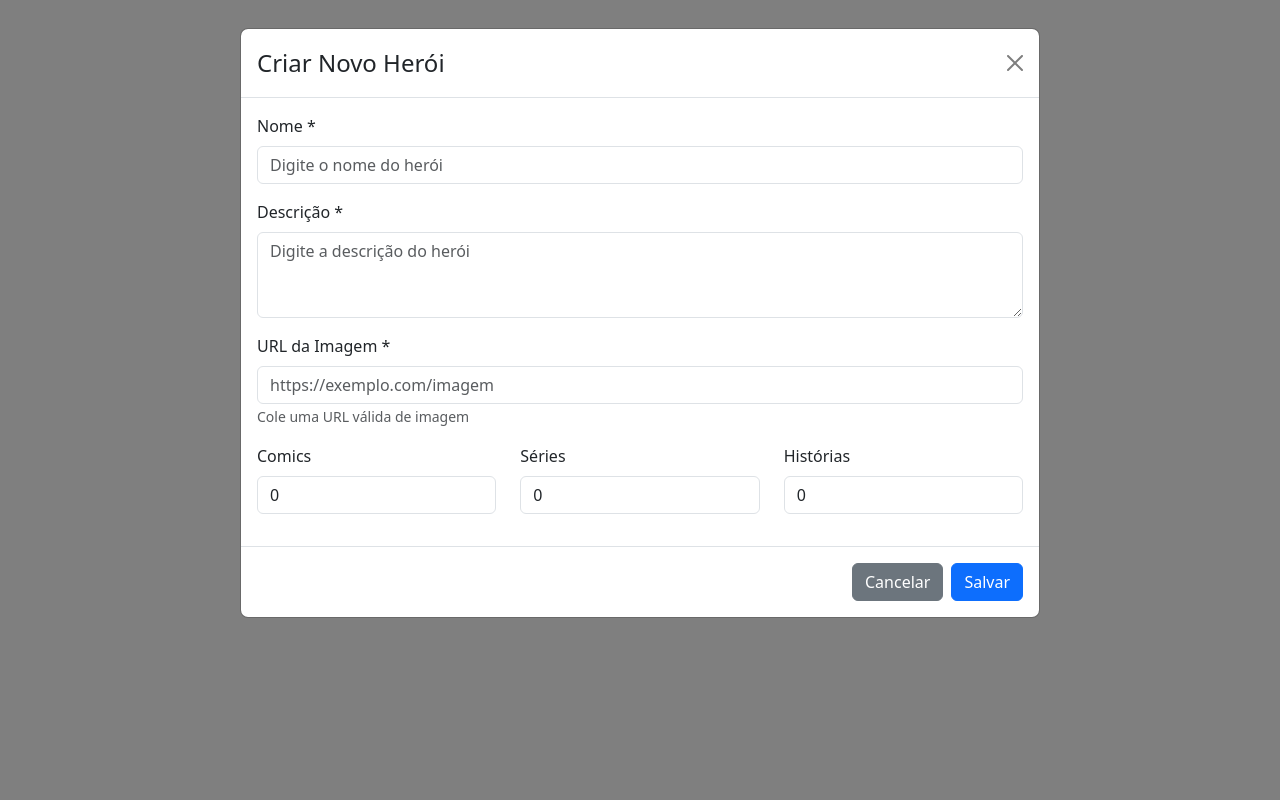
HeroForm › Form Interactions › should disable submit button while submitting
In the field with placeholder "Digite o nome do herói": [640, 165] box top-left (257, 146), bottom-right (1023, 184), type "Test"
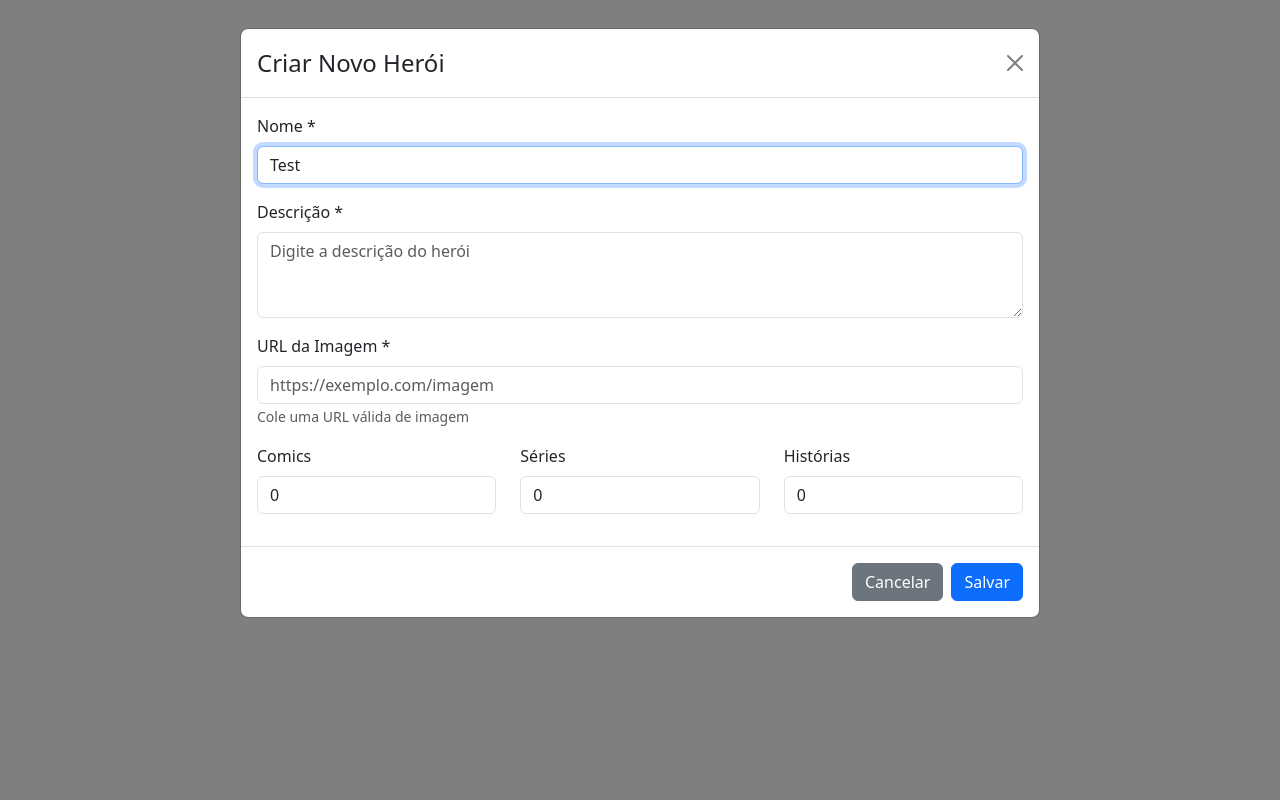
In the text box with placeholder "Digite a descrição do herói": [640, 275] box top-left (257, 232), bottom-right (1023, 318), type "Test"
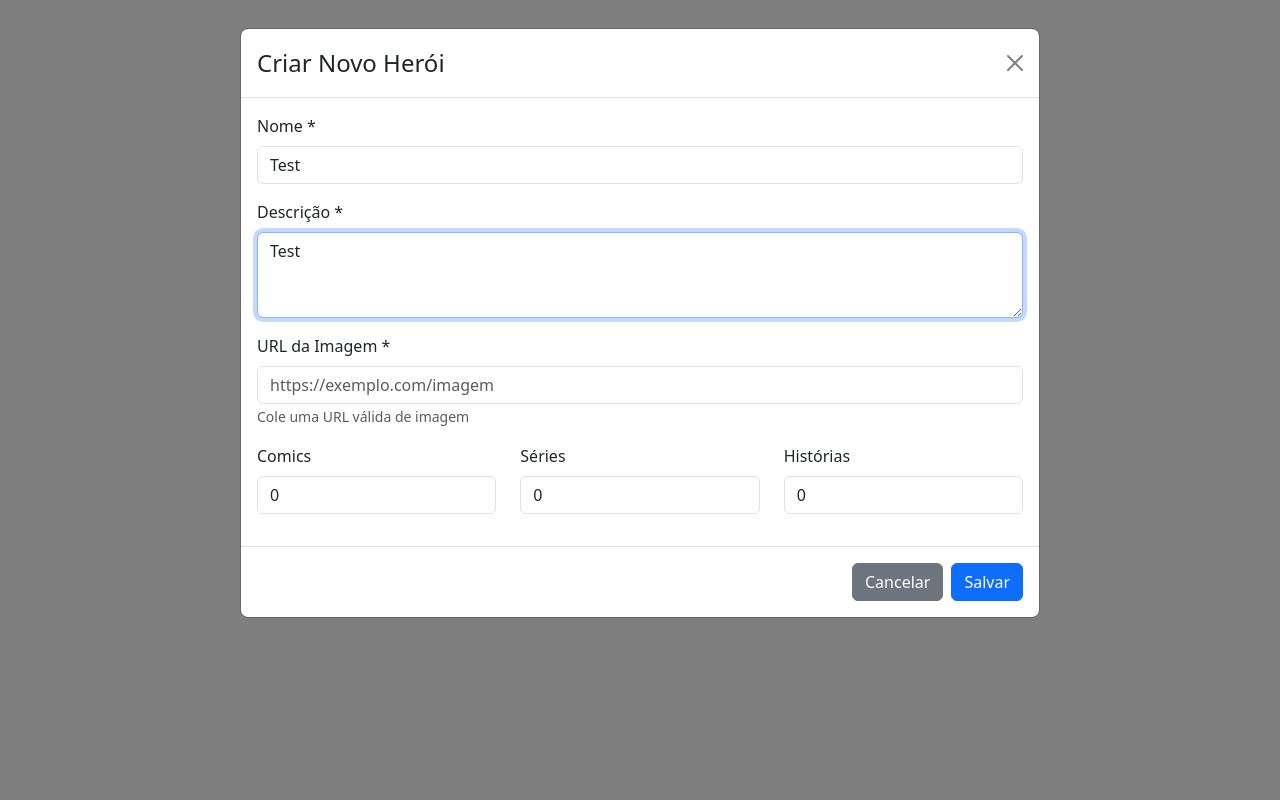
In the field with placeholder "https://exemplo.com/imagem": [640, 385] box top-left (257, 366), bottom-right (1023, 404), type "https://example.com/test.jpg"
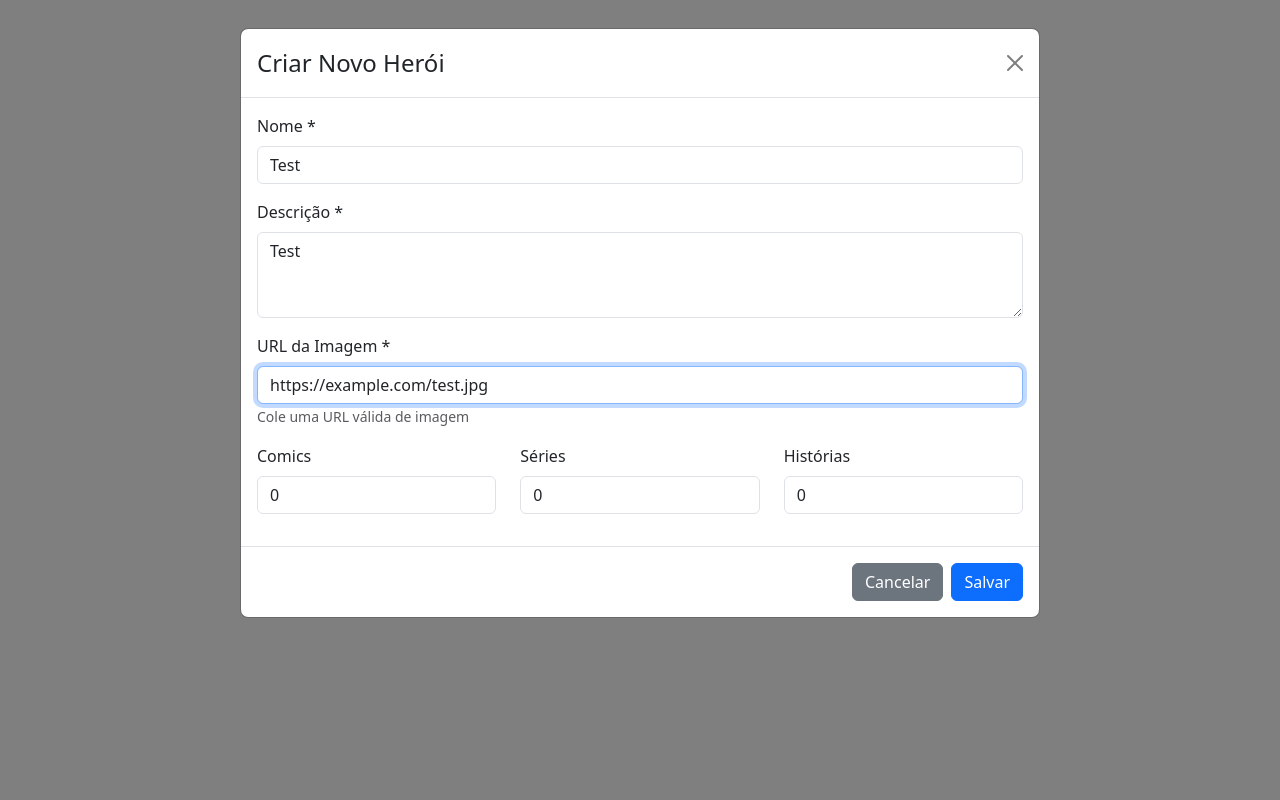
Click the button "Salvar": [987, 582] box top-left (951, 563), bottom-right (1023, 601)
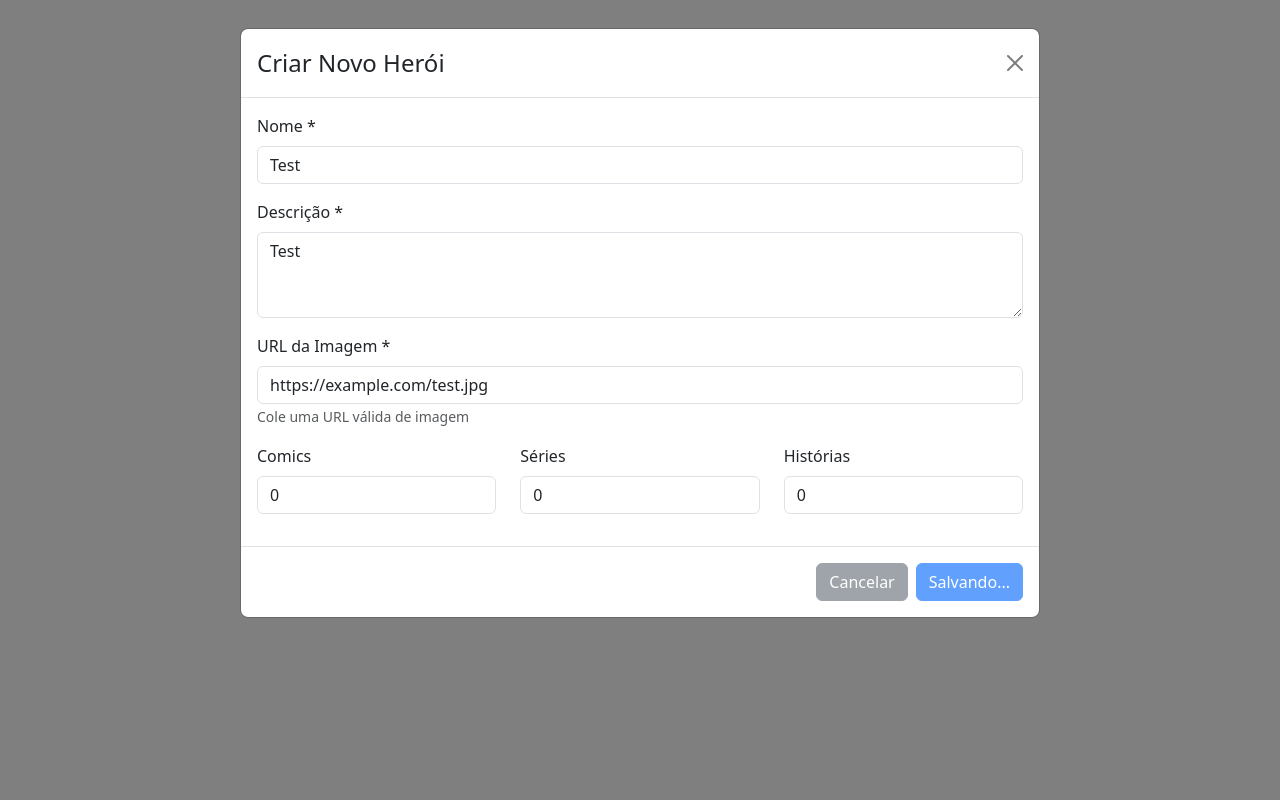
Expected: the button "Salvando..." is disabled, top-left (916, 563), bottom-right (1023, 601)
